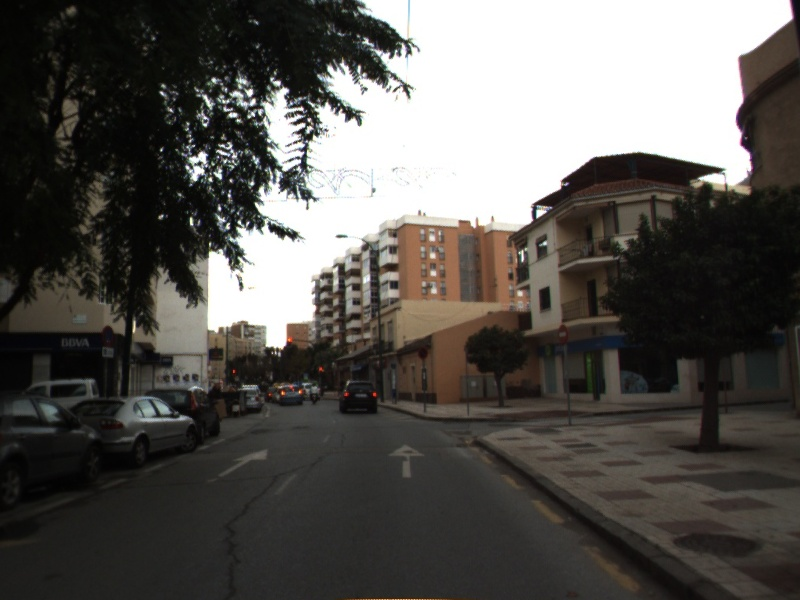STRAIGHT: (215, 447, 270, 479), (385, 441, 427, 480)
